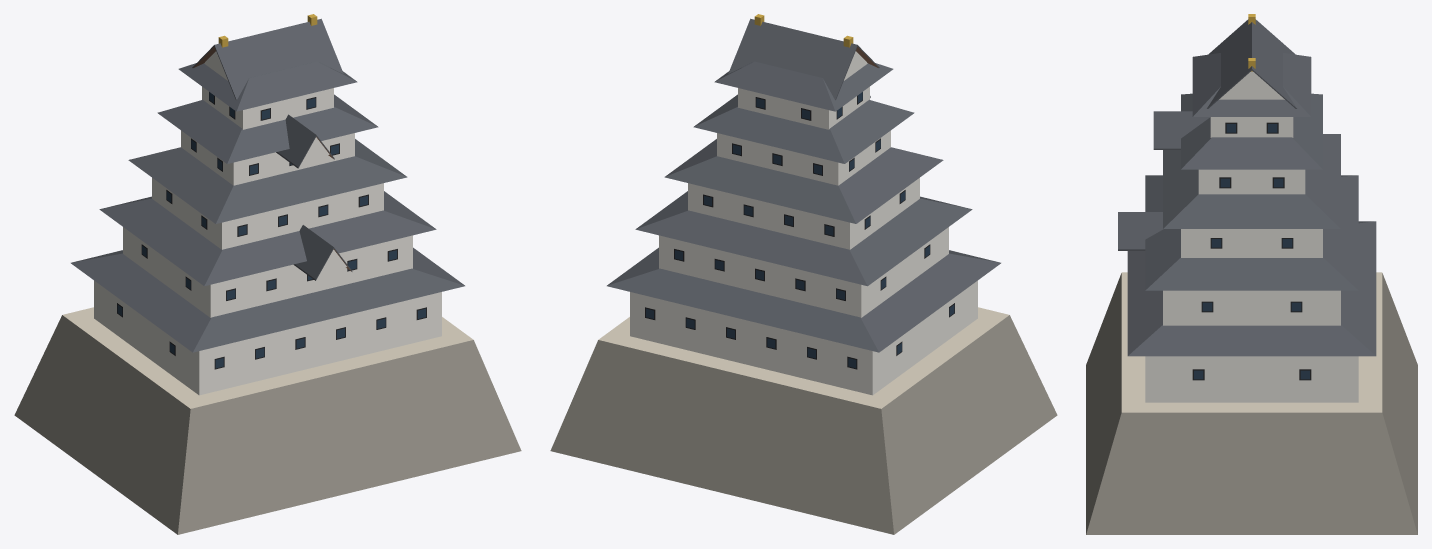
The model's file is chateau_himeji.glb.
The picture shows the model from 3 angles, left to right: view 1: azimuth 30°, elevation 25°; view 2: azimuth 150°, elevation 25°; view 3: azimuth 270°, elevation 25°; orthographic projection.
Visible parts, largest first — view 1: chateau_himeji; view 2: chateau_himeji; view 3: chateau_himeji.
Boxes of the visible parts, left/top/right/bottom form: chateau_himeji: left=14, top=14, right=521, bottom=534; chateau_himeji: left=550, top=14, right=1057, bottom=534; chateau_himeji: left=1086, top=14, right=1417, bottom=534.
Size of the model in its own units: 34 by 38.4 by 28.
Materials: 1 (1 with a texture image).
